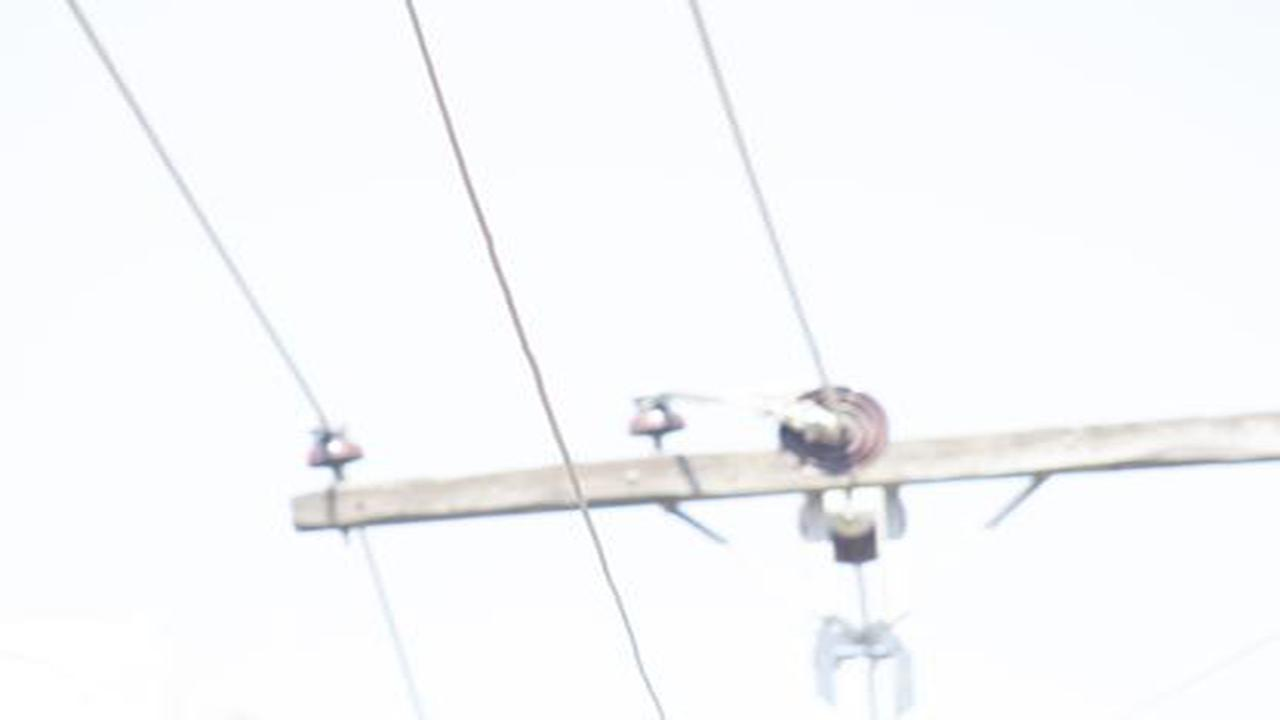insulator_disc: (767, 381, 898, 472), (810, 490, 912, 561)
insulator_pin: (630, 388, 687, 440), (308, 422, 368, 470)
